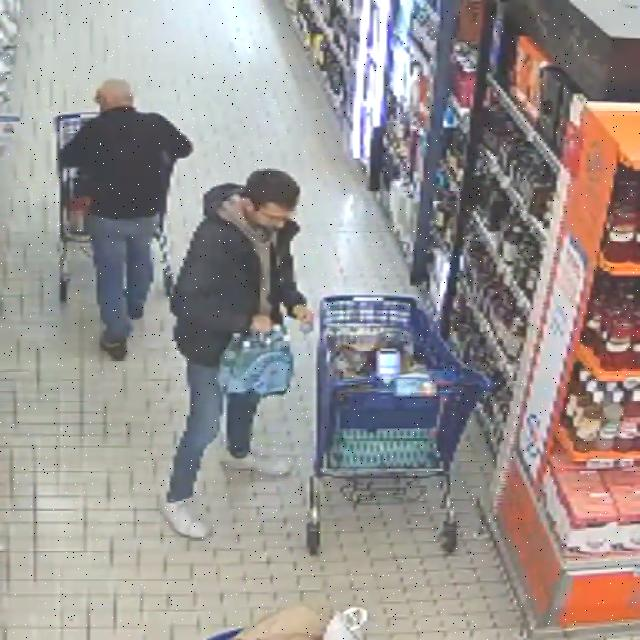article: (216, 322, 294, 398)
hands: (293, 305, 314, 327), (251, 314, 274, 334)
person: (162, 169, 313, 537), (60, 80, 192, 360)
